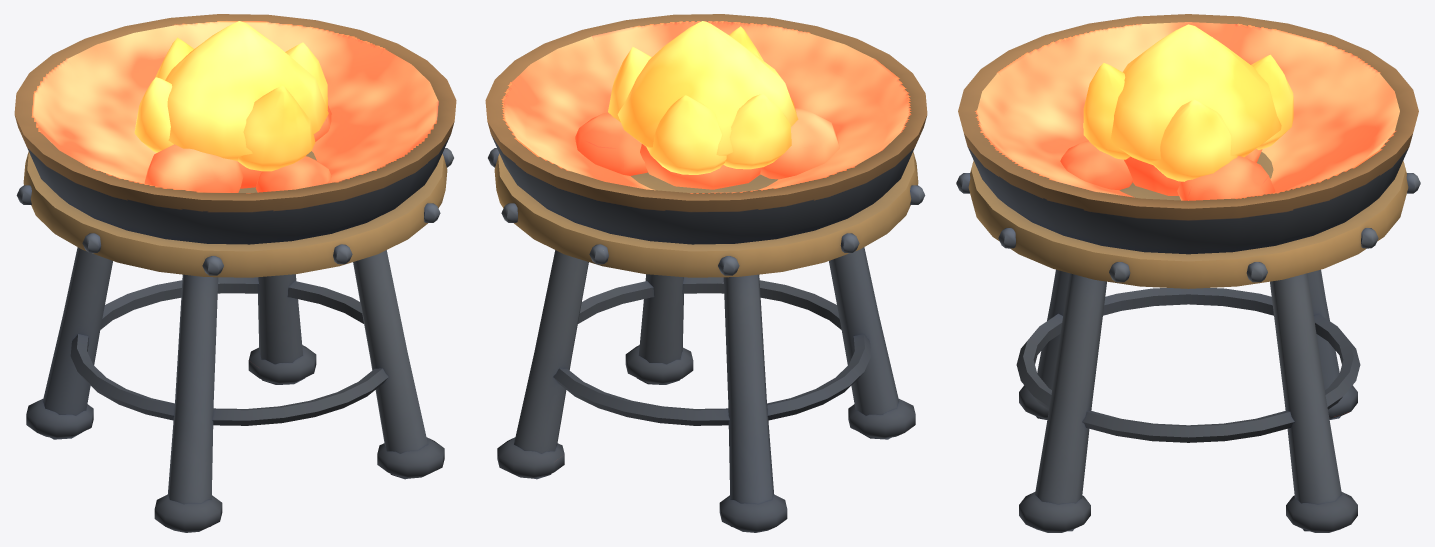
Rendered from EF_P05_Brazier.fbx.
3 renders of one model, left to right at view 1: azimuth 30°, elevation 25°; view 2: azimuth 150°, elevation 25°; view 3: azimuth 270°, elevation 25°, orthographic. The views are drawn at different scales.
Visible parts, largest first — view 1: Bowl, Flame, Leg_03, Leg_04, Brace, Leg_02, Leg_01; view 2: Bowl, Flame, Leg_02, Leg_01, Brace, Leg_03, Leg_04; view 3: Bowl, Flame, Leg_01, Leg_04, Brace, Leg_02, Leg_03.
Boxes of the visible parts, <box> form: Bowl: <box>14,14,456,277</box>; Flame: <box>134,21,328,171</box>; Leg_03: <box>154,274,222,532</box>; Leg_04: <box>353,250,444,479</box>; Brace: <box>70,277,388,425</box>; Leg_02: <box>26,247,112,439</box>; Leg_01: <box>248,274,316,384</box>; Bowl: <box>485,14,927,277</box>; Flame: <box>608,21,798,174</box>; Leg_02: <box>719,274,787,532</box>; Leg_01: <box>497,250,588,479</box>; Brace: <box>553,277,871,425</box>; Leg_03: <box>829,247,915,439</box>; Leg_04: <box>625,274,693,384</box>; Bowl: <box>956,14,1420,288</box>; Flame: <box>1083,24,1293,181</box>; Leg_01: <box>1270,273,1357,532</box>; Leg_04: <box>1019,273,1106,532</box>; Brace: <box>1016,288,1360,442</box>; Leg_02: <box>1307,269,1357,419</box>; Leg_03: <box>1019,269,1069,419</box>.
Bounding box in the file's own units: 1.22 × 1.3 × 1.23.
